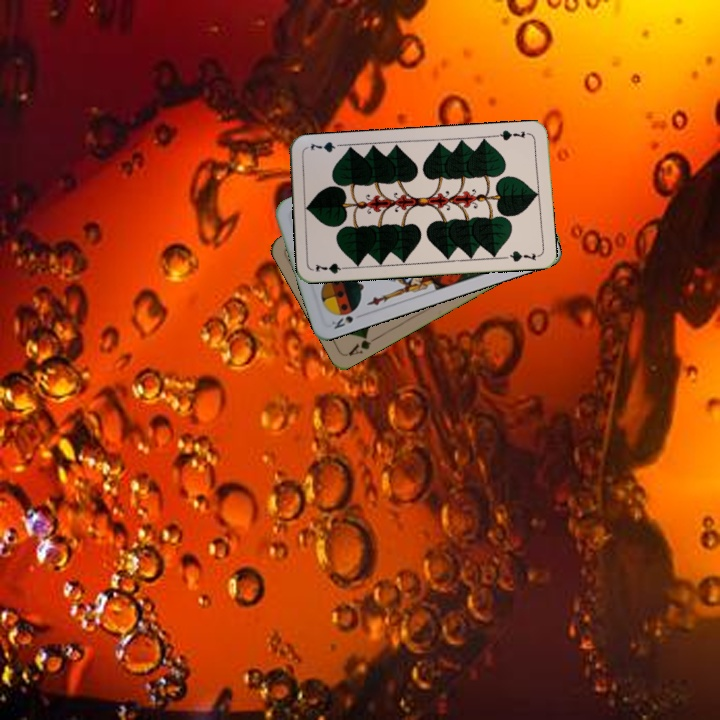G7: (311, 259, 352, 276), (492, 126, 533, 143)
GA: (344, 330, 381, 359)
SK: (327, 304, 361, 332)
